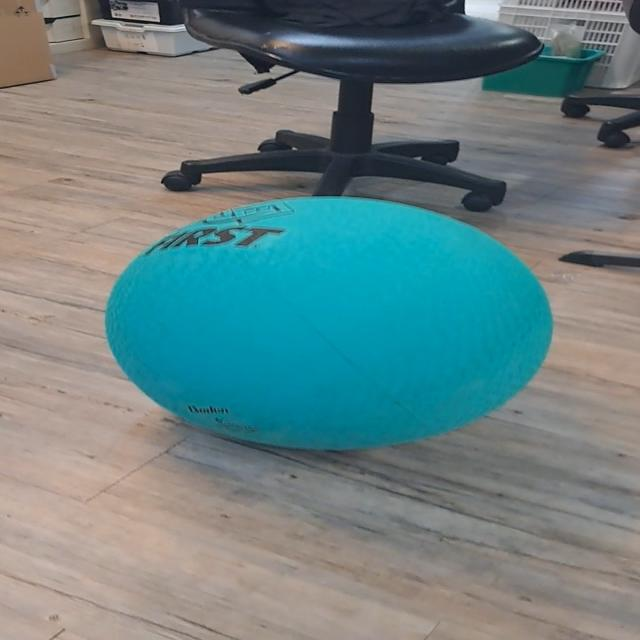ALGAE: (101, 193, 555, 452)
